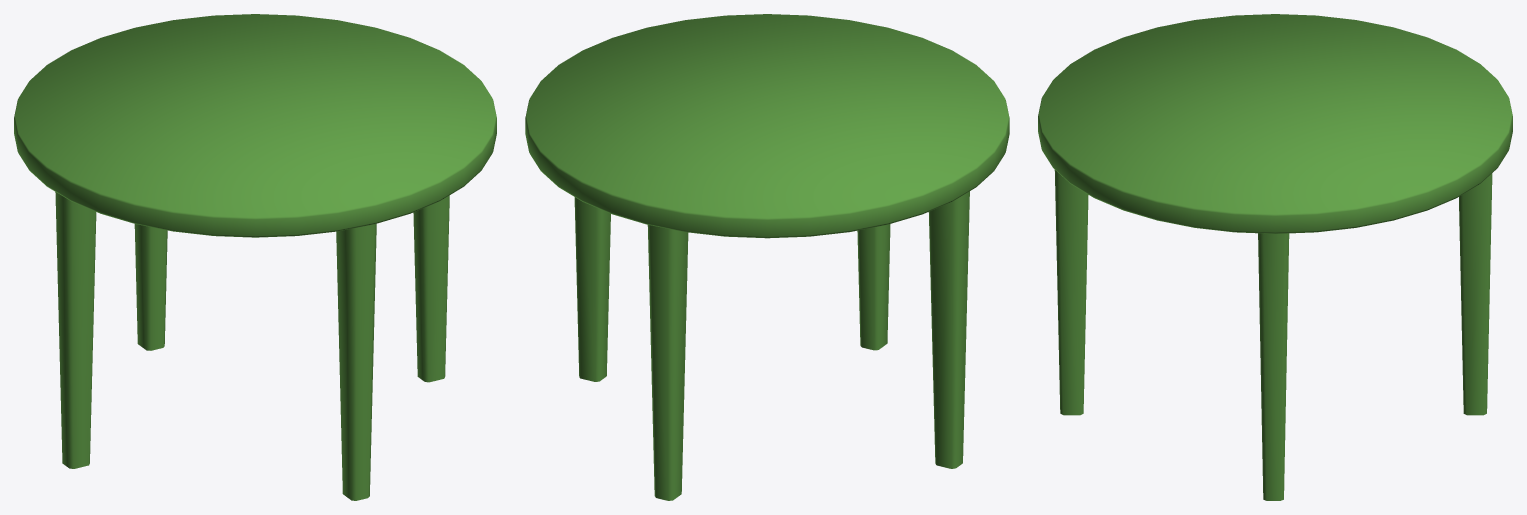
Rendered from table_4person.fbx.
3 renders of one model, left to right at view 1: azimuth 30°, elevation 25°; view 2: azimuth 150°, elevation 25°; view 3: azimuth 270°, elevation 25°, orthographic.
Visible parts, largest first — view 1: table_4person; view 2: table_4person; view 3: table_4person.
Boxes of the visible parts, x1,y1,x2,y2 form: table_4person: (14,14,496,500); table_4person: (525,14,1009,500); table_4person: (1038,14,1512,500).
Bounding box in the file's own units: 135 × 93.6 × 135.
